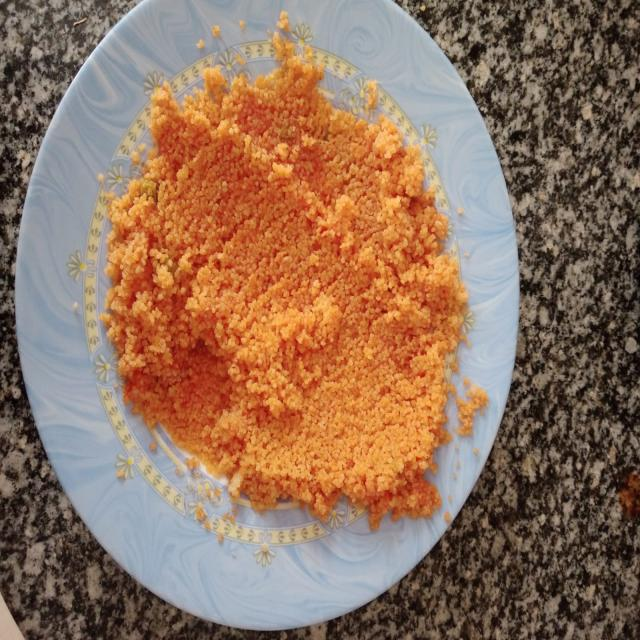Couscous: (48, 27, 524, 584)
